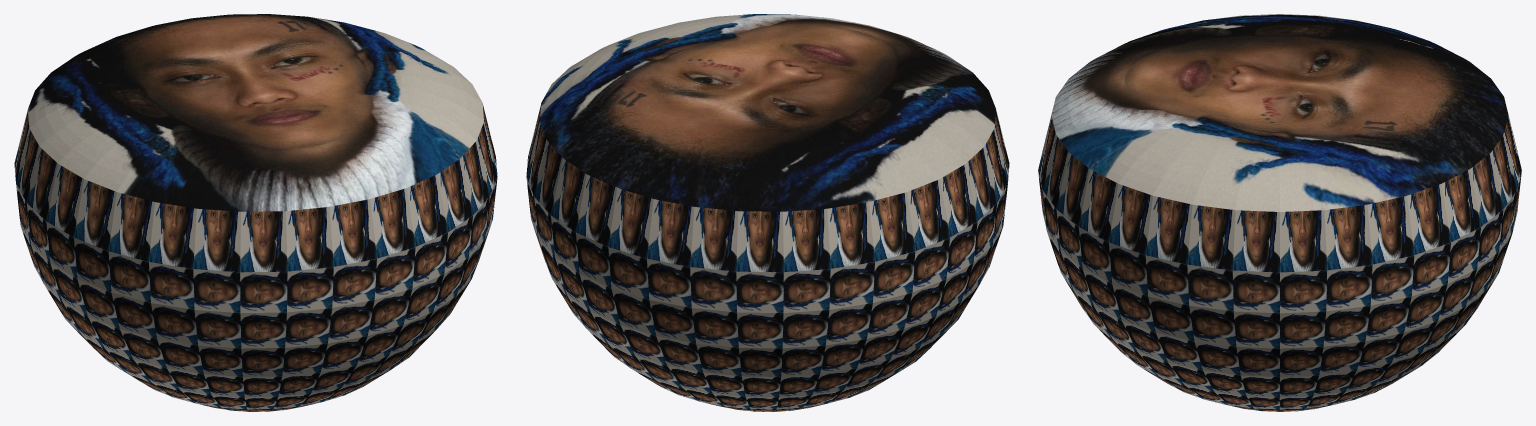
Rendered from han.gltf.
3 renders of one model, left to right at view 1: azimuth 30°, elevation 25°; view 2: azimuth 150°, elevation 25°; view 3: azimuth 270°, elevation 25°, orthographic.
Visible parts, largest first — view 1: Sphere; view 2: Sphere; view 3: Sphere.
Part boxes in pixels (x1=…): Sphere: x1=14, y1=14, x2=497, y2=411; Sphere: x1=526, y1=14, x2=1009, y2=411; Sphere: x1=1038, y1=14, x2=1521, y2=411.
Size of the model in its own units: 2 by 1.4 by 2.
Materials: 1 (1 with a texture image).
